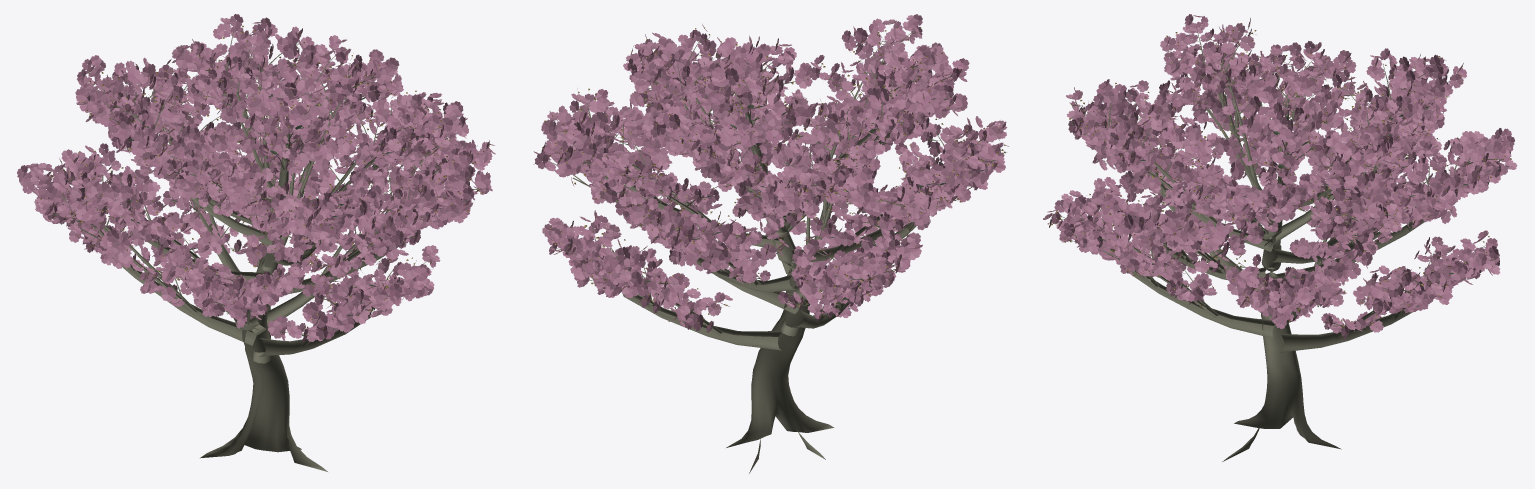
3 views of the same model, side by side, from view 1: azimuth 30°, elevation 25°; view 2: azimuth 150°, elevation 25°; view 3: azimuth 270°, elevation 25° (orthographic). The views are drawn at different scales.
Parts seen in each view (by area): view 1: leaves, branches; view 2: leaves, branches; view 3: leaves, branches.
Part boxes in pixels (x1,y1,x2,y2): leaves: [17, 14, 495, 342]; branches: [29, 31, 482, 471]; leaves: [533, 14, 1009, 332]; branches: [548, 31, 990, 473]; leaves: [1043, 14, 1517, 339]; branches: [1051, 26, 1499, 461].
Bounding box in the file's own units: 9.15 × 8.1 × 9.28.
